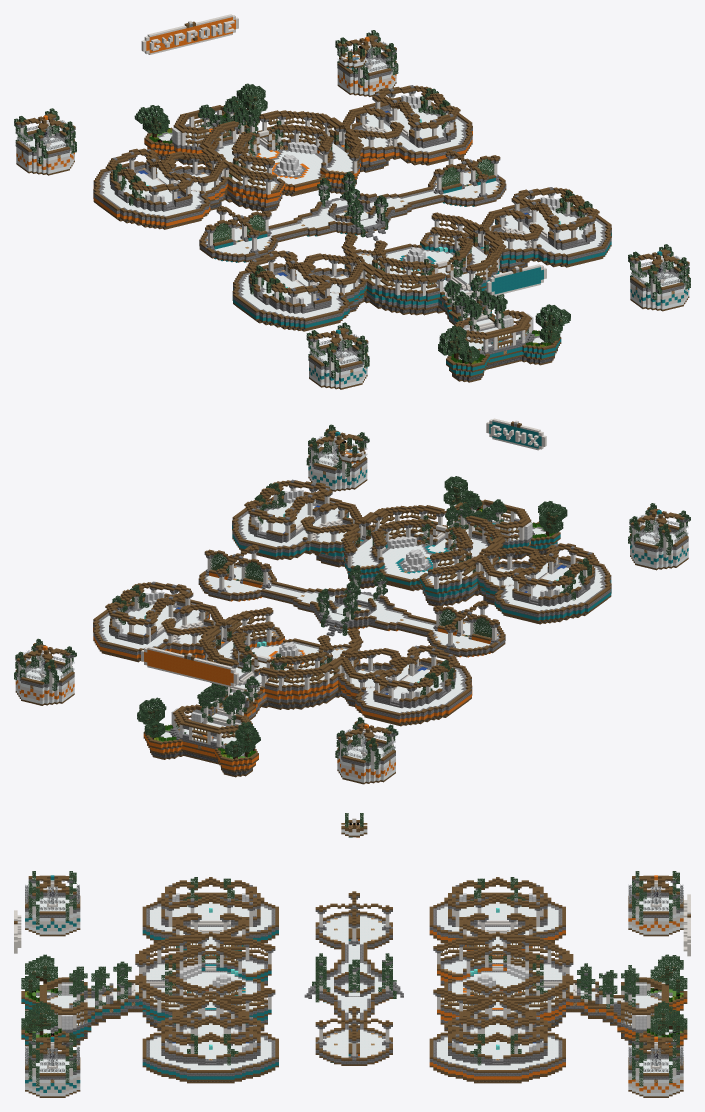
The model's file is minecraft.obj.
3 renders of one model, top to bottom at view 1: azimuth 30°, elevation 25°; view 2: azimuth 150°, elevation 25°; view 3: azimuth 270°, elevation 25°, orthographic. The views are drawn at different scales.
Size of the model in its own units: 119 by 64.5 by 184.
